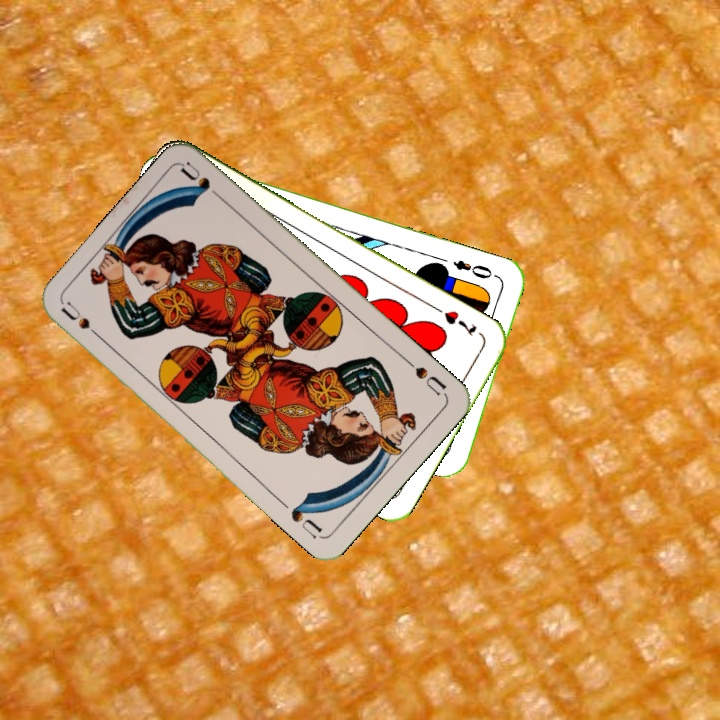EO: (448, 256, 495, 282)
H7: (430, 302, 480, 339)
SU: (57, 297, 108, 345), (400, 354, 449, 399)
